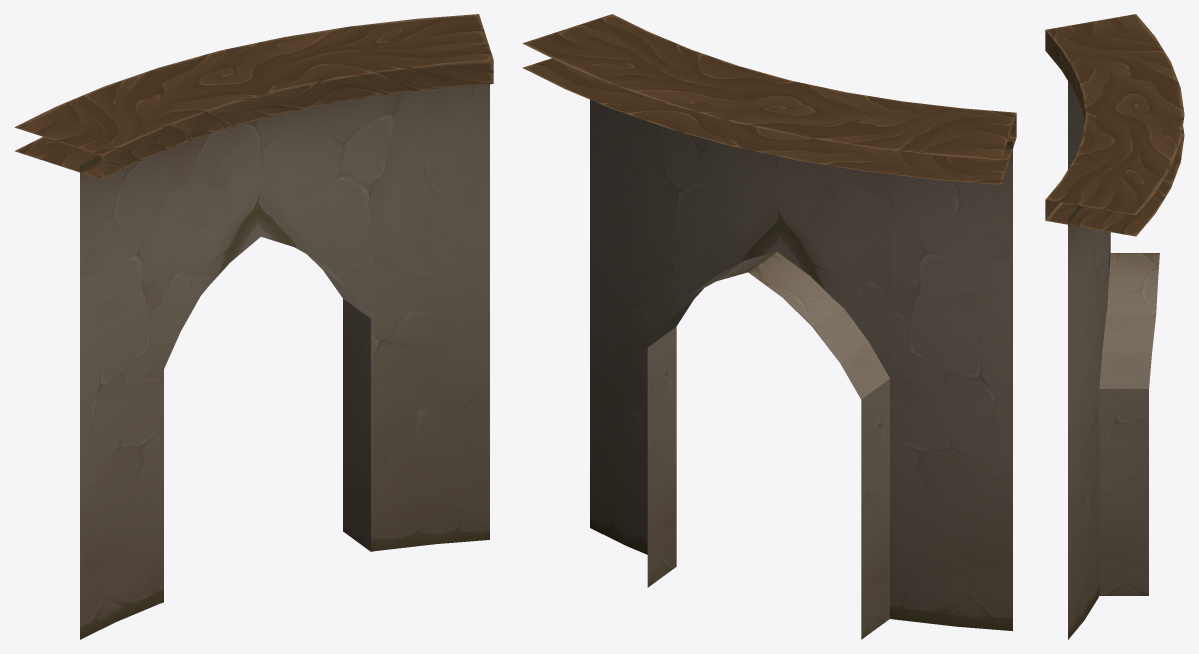
The model's file is Wall_round_4_6.FBX.
3 views of the same model, side by side, from view 1: azimuth 30°, elevation 25°; view 2: azimuth 150°, elevation 25°; view 3: azimuth 270°, elevation 25° (orthographic). The views are drawn at different scales.
Visible parts, largest first — view 1: Wall_round_4_6; view 2: Wall_round_4_6; view 3: Wall_round_4_6.
Part boxes in pixels (x1=…): Wall_round_4_6: x1=14, y1=14, x2=493, y2=639; Wall_round_4_6: x1=522, y1=14, x2=1016, y2=639; Wall_round_4_6: x1=1045, y1=14, x2=1184, y2=639.
Size of the model in its own units: 3486 by 3520 by 1017.
